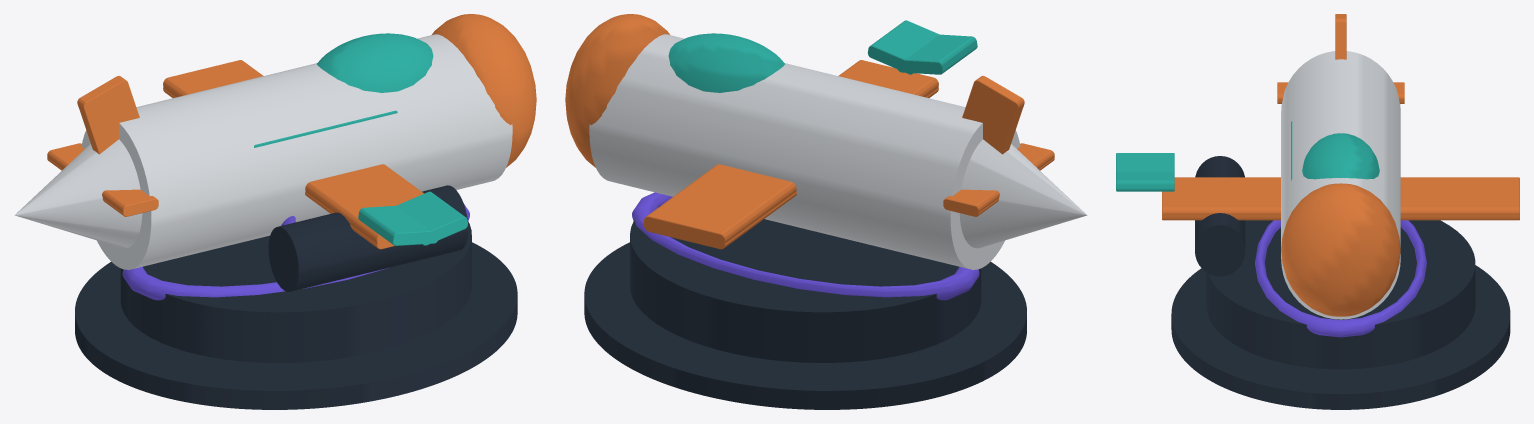
File: 0354_航空航天图鉴_X-15高超音速飞机.glb
The picture shows the model from 3 angles, left to right: view 1: azimuth 30°, elevation 25°; view 2: azimuth 150°, elevation 25°; view 3: azimuth 270°, elevation 25°; orthographic projection. The views are drawn at different scales.
Visible parts, largest first — view 1: card_0354; view 2: card_0354; view 3: card_0354.
Part boxes in pixels (left/top/right/bottom): card_0354: left=14, top=14, right=536, bottom=409; card_0354: left=565, top=14, right=1087, bottom=409; card_0354: left=1116, top=14, right=1519, bottom=409.
Size of the model in its own units: 1.87 by 1 by 1.53.
